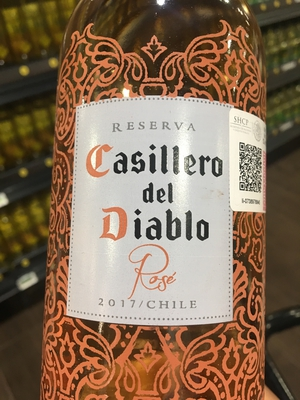casillero del diablo rose: (36, 9, 274, 400)
